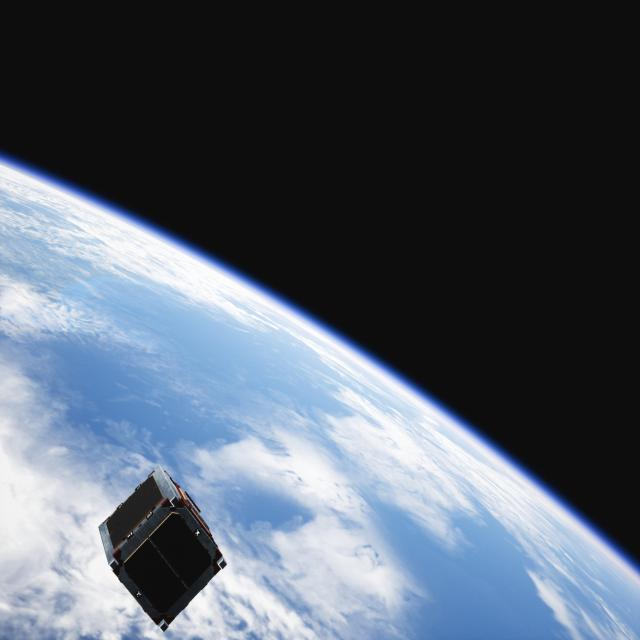medium_debris: (83, 469, 228, 631)
